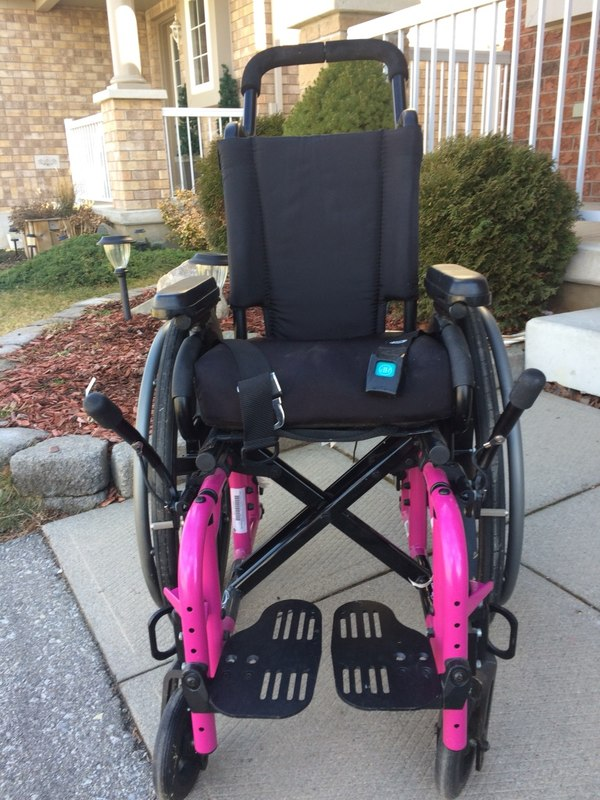wheelchair: (77, 45, 513, 768)
